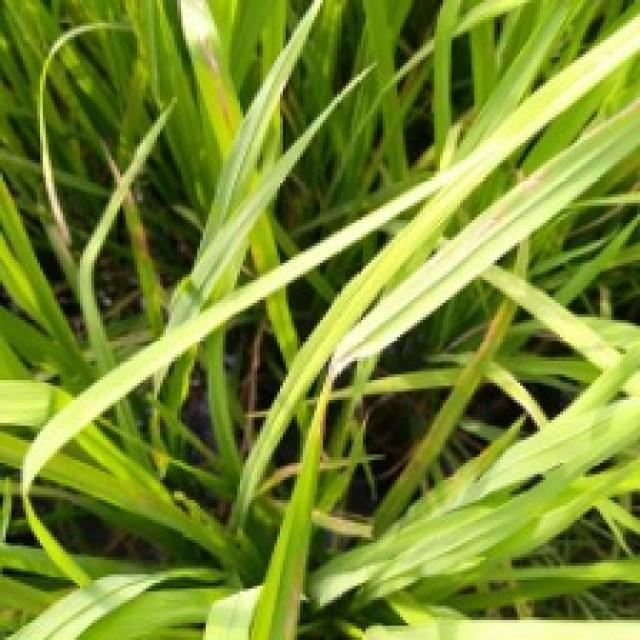Rice___Rice_Blast: (247, 96, 637, 637)
